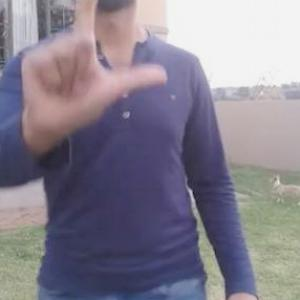land_hand: (17, 0, 173, 148)
